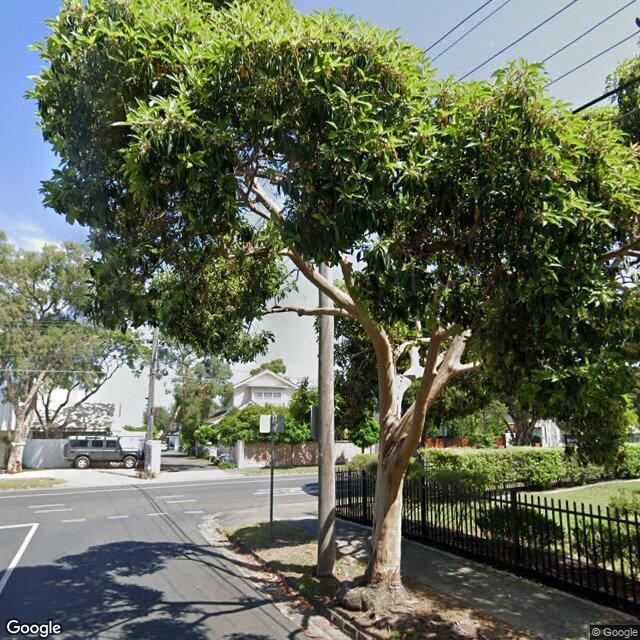concrete-pole: (318, 255, 337, 574)
timber-pole: (147, 324, 160, 440)
